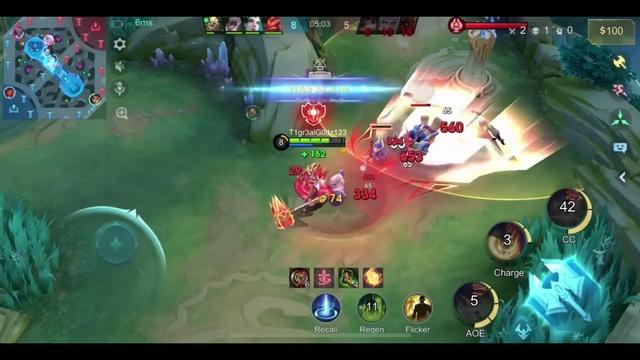Adc_Aliado: (1, 87, 17, 98)
Adc_Enemigo: (12, 27, 25, 41)
Arbusto: (480, 210, 634, 342), (0, 191, 59, 309)
Esbirro_Enemigo: (408, 116, 439, 155), (329, 169, 344, 197), (371, 140, 385, 160)
Exp_Aliado: (89, 92, 102, 106)
HP_Heroe_Principal: (289, 138, 345, 143)
Hechizo_Batalla: (403, 293, 432, 322)
Jungla_Aliado: (49, 54, 61, 61)
Mana: (288, 143, 345, 147)
Mid_Aliado: (43, 58, 57, 70)
Minimapa: (4, 19, 108, 118)
Roamer_Aliado: (40, 47, 56, 59)
Roamer_Enemigo: (42, 34, 57, 46)
Tigreal: (269, 163, 341, 228)
Torre_Enemiga: (452, 29, 496, 96)
